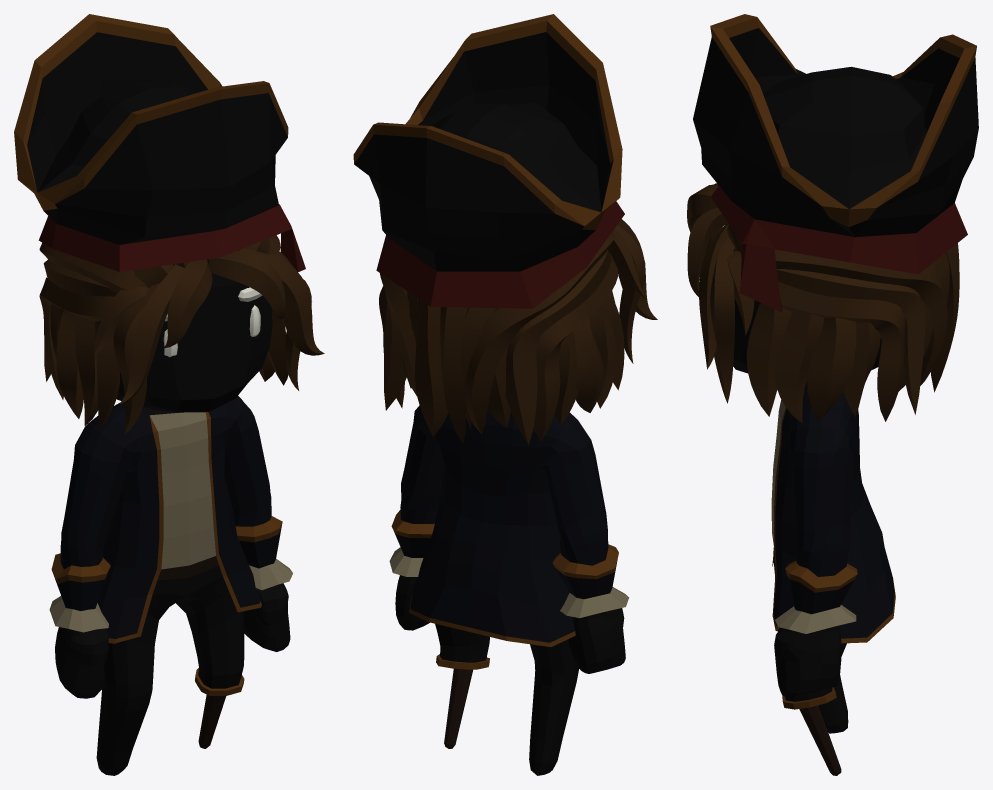
The model's file is Pirate_Female.obj.
3 views of the same model, side by side, from view 1: azimuth 30°, elevation 25°; view 2: azimuth 150°, elevation 25°; view 3: azimuth 270°, elevation 25° (orthographic). The views are drawn at different scales.
Visible parts, largest first — view 1: Body_Cube.004; view 2: Body_Cube.004; view 3: Body_Cube.004.
Boxes of the visible parts, <box> form: Body_Cube.004: <box>14,14,324,775</box>; Body_Cube.004: <box>353,14,657,775</box>; Body_Cube.004: <box>687,14,978,775</box>.
Bounding box in the file's own units: 1.34 × 3.9 × 1.41.
